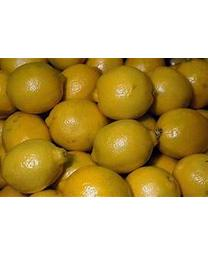lemon: (92, 119, 161, 175), (2, 139, 72, 194), (93, 65, 157, 118), (47, 100, 109, 152), (6, 61, 65, 111), (154, 108, 207, 156)
